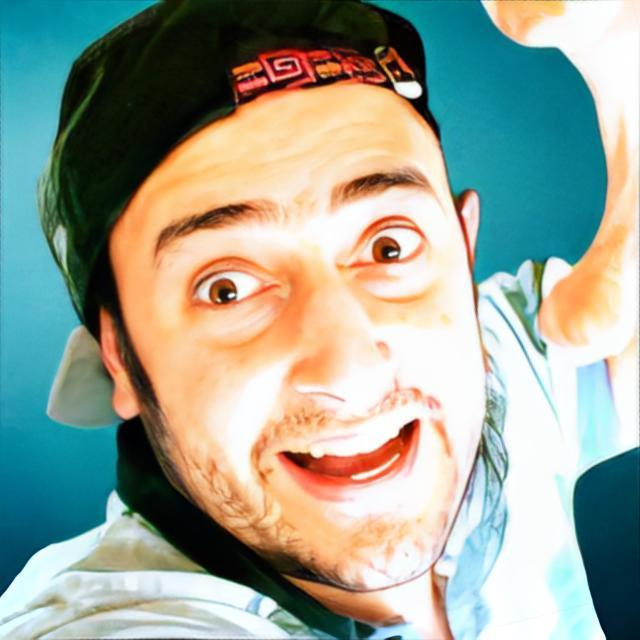surprise: (107, 81, 490, 594)
